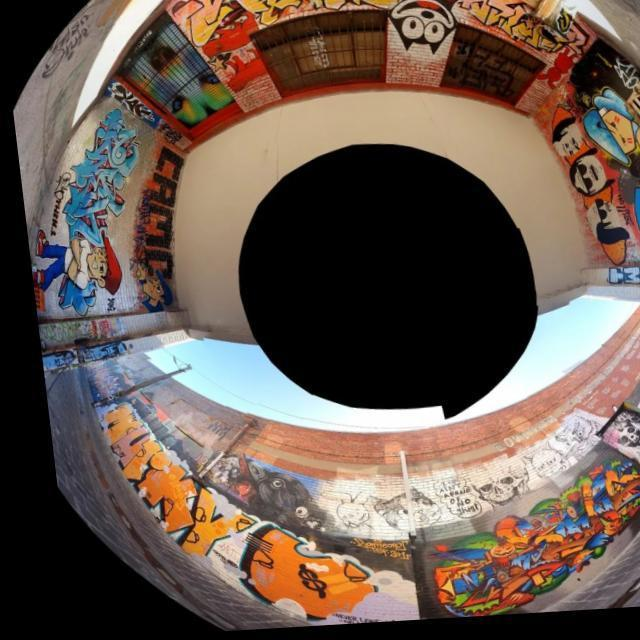-: (61, 378, 369, 638), (400, 421, 640, 623), (11, 115, 167, 322), (527, 88, 640, 278), (146, 0, 429, 49), (370, 0, 534, 66), (20, 216, 120, 308), (581, 398, 640, 492)
